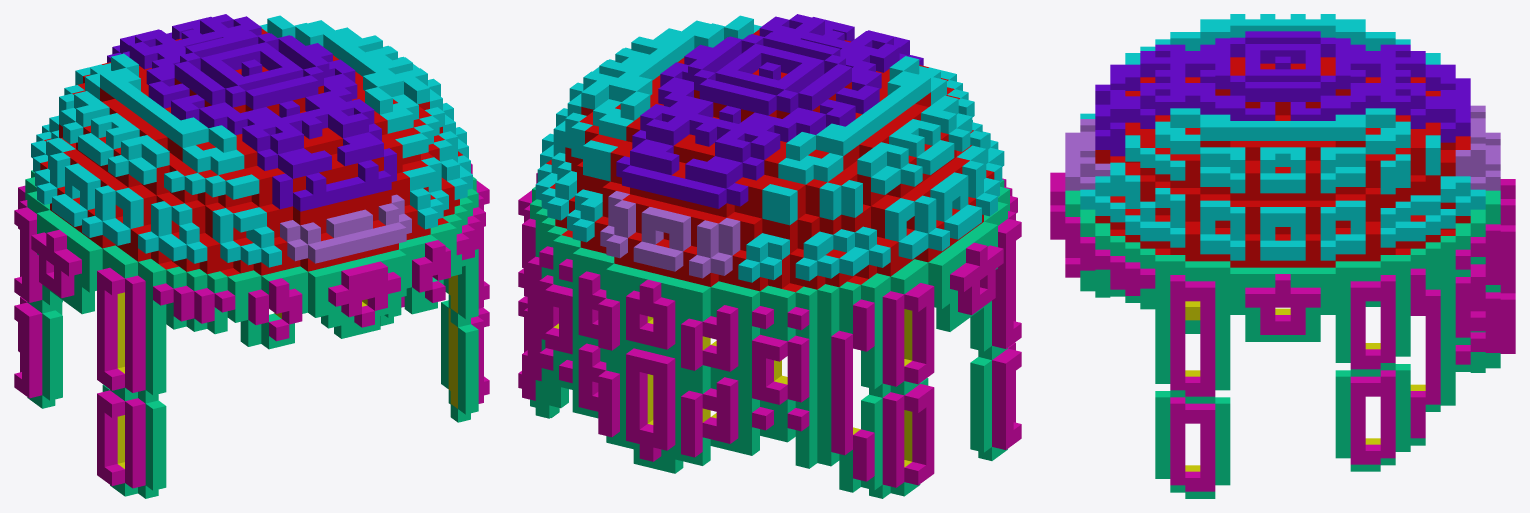
The picture shows the model from 3 angles, left to right: view 1: azimuth 30°, elevation 25°; view 2: azimuth 150°, elevation 25°; view 3: azimuth 270°, elevation 25°; orthographic projection. The views are drawn at different scales.
Bounding box in the file's own units: 1.55 × 1.3 × 1.55.
